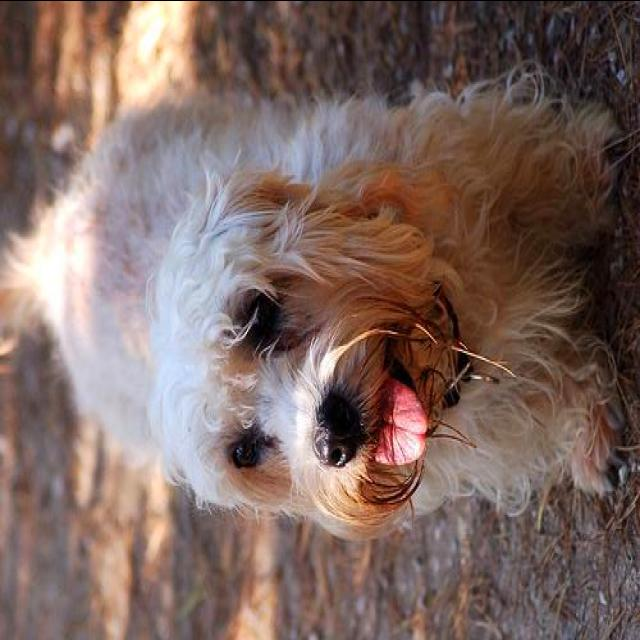dandie_dinmont: (1, 88, 638, 540)
